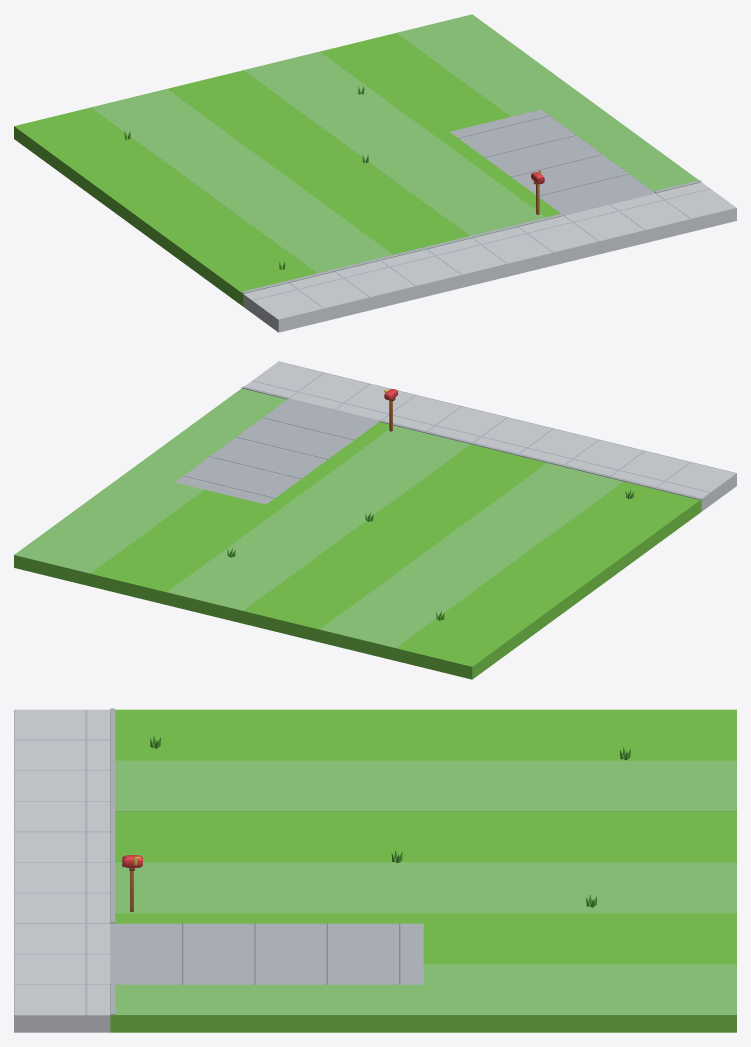
The model's file is lote_15x15.glb.
3 views of the same model, one above another, from view 1: azimuth 30°, elevation 25°; view 2: azimuth 150°, elevation 25°; view 3: azimuth 270°, elevation 25° (orthographic). The views are drawn at different scales.
Visible parts, largest first — view 1: gramado, lote_15x15; view 2: gramado, lote_15x15; view 3: gramado, lote_15x15.
Boxes of the visible parts, x1,y1,x2,y2 form: gramado: (14,14,700,306); lote_15x15: (241,109,736,332); gramado: (14,388,701,679); lote_15x15: (175,361,736,511); gramado: (110,709,736,1032); lote_15x15: (14,708,423,1032).
Size of the model in its own units: 15 by 1.7 by 15.
Materials: 1 (1 with a texture image).
